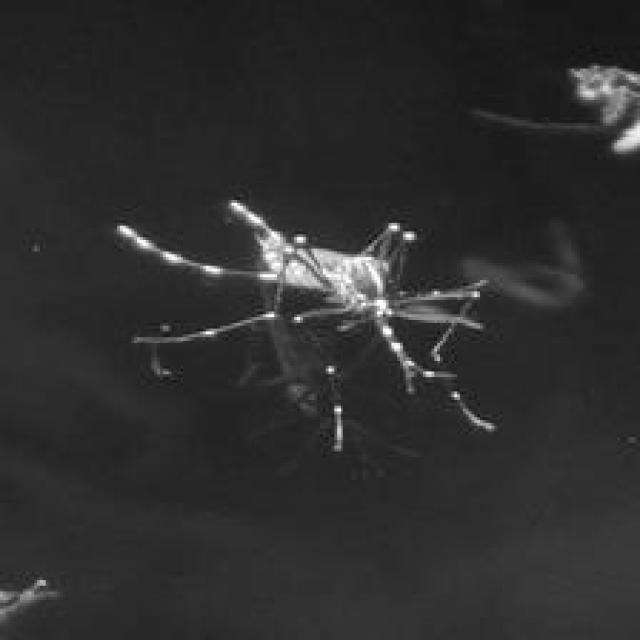Aedes albopictus: (111, 194, 503, 466)
